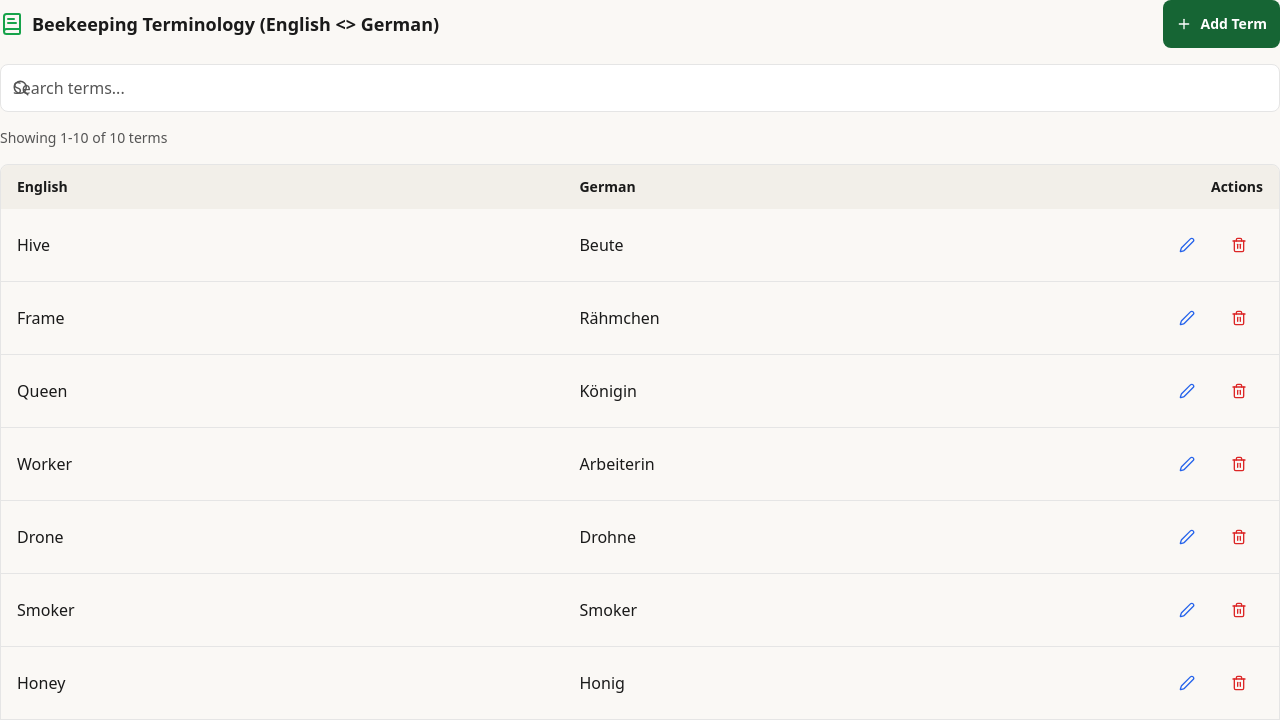
Test case: TerminologyTable › Delete Term Functionality › should show confirm dialog when delete button is clicked
Expected: the text "Hive" is shown, top-left (1, 209), bottom-right (564, 282)
Click the button titled "Delete" in the row of "Hive" at (1239, 245), box top-left (1215, 221), bottom-right (1263, 269)
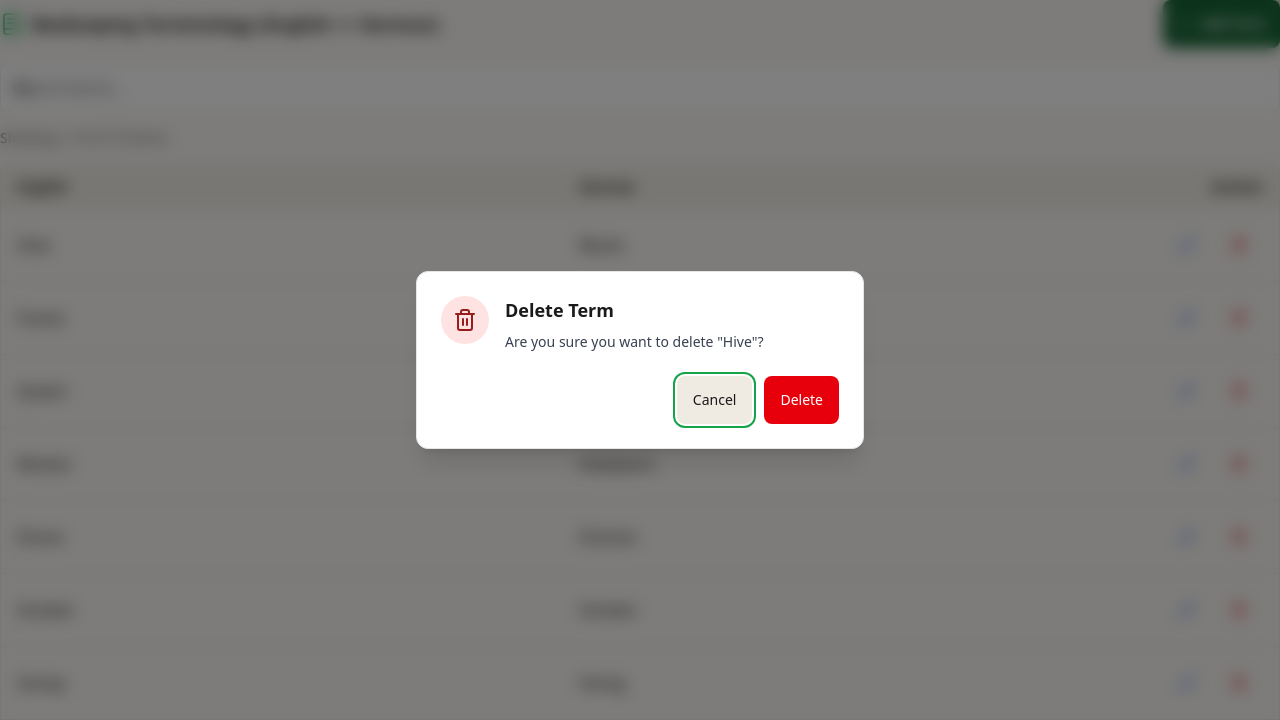
Result: the text "Are you sure you want to delete \"Hive\"?" is shown at top-left (505, 332), bottom-right (764, 351)
